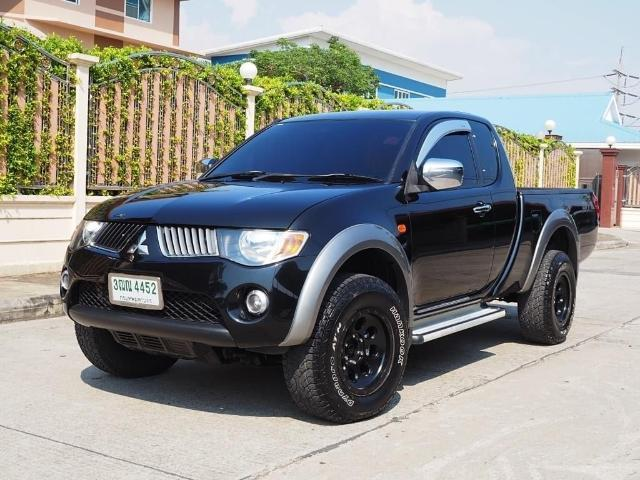pickup-truck: (41, 97, 604, 431)
